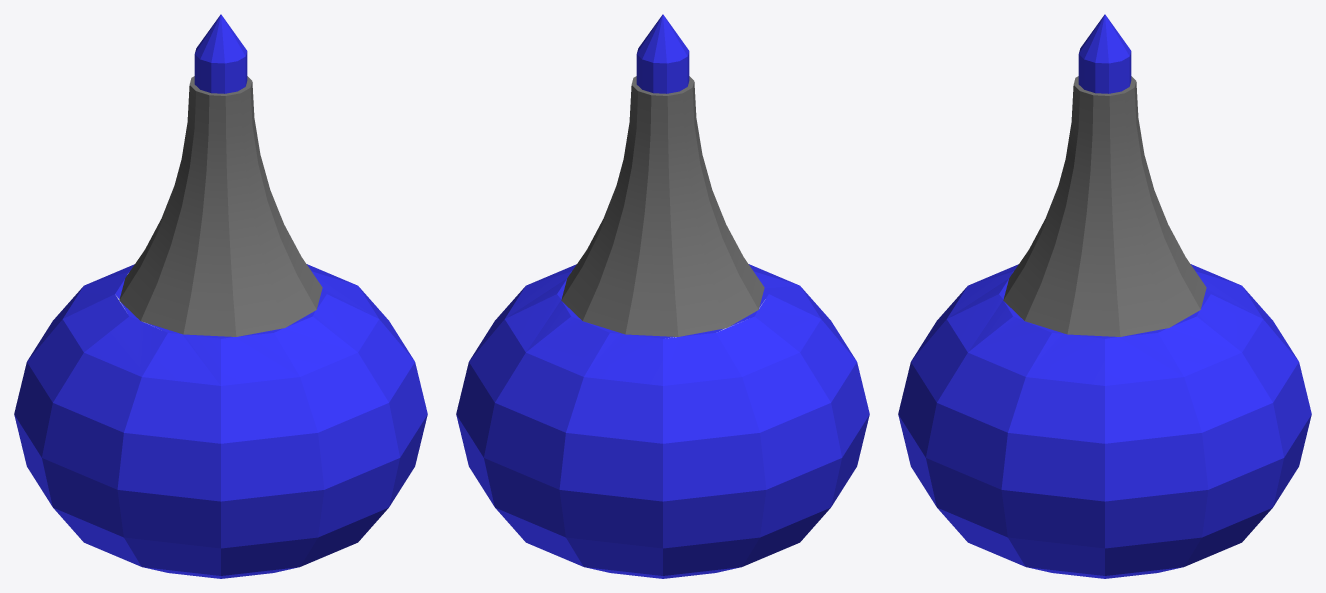
File: elixir.fbx
The picture shows the model from 3 angles, left to right: view 1: azimuth 30°, elevation 25°; view 2: azimuth 150°, elevation 25°; view 3: azimuth 270°, elevation 25°; orthographic projection.
Visible parts, largest first — view 1: Elixir1; view 2: Elixir1; view 3: Elixir1.
Part boxes in pixels (x1=…): Elixir1: x1=14, y1=14, x2=427, y2=578; Elixir1: x1=456, y1=14, x2=869, y2=578; Elixir1: x1=898, y1=14, x2=1311, y2=578.
Size of the model in its own units: 39.04 by 54.16 by 39.04.
